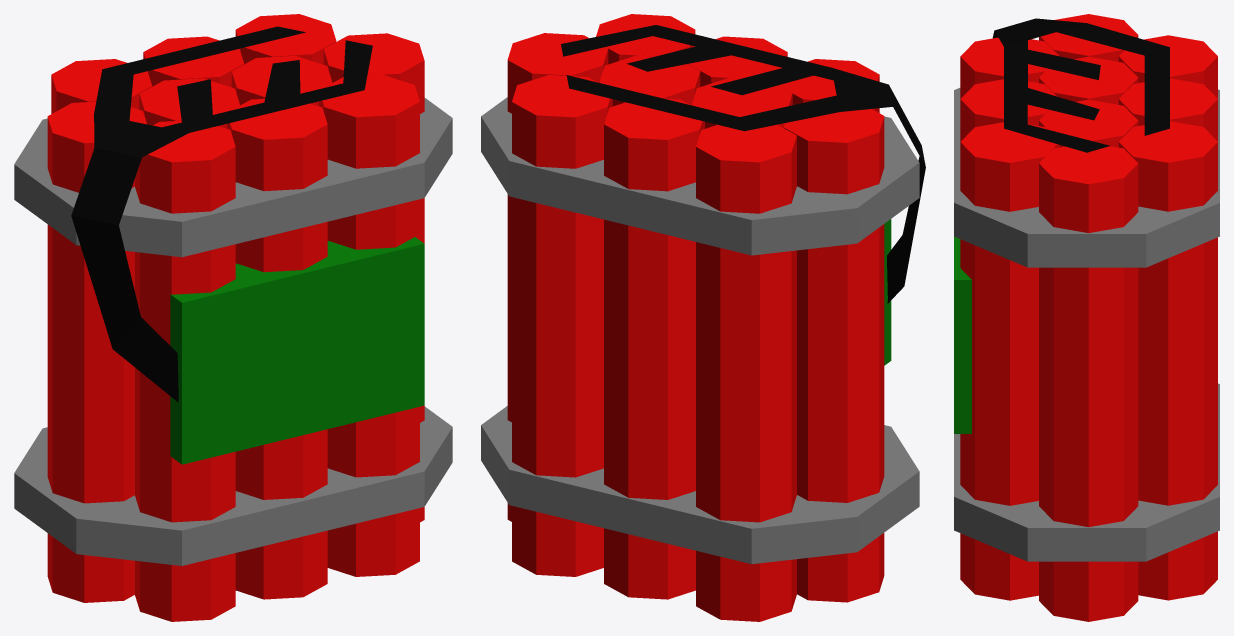
Rendered from dynamite.fbx.
3 renders of one model, left to right at view 1: azimuth 30°, elevation 25°; view 2: azimuth 150°, elevation 25°; view 3: azimuth 270°, elevation 25°, orthographic. The views are drawn at different scales.
Visible parts, largest first — view 1: Cylinder; view 2: Cylinder; view 3: Cylinder.
Boxes of the visible parts, x1,y1,x2,y2 form: Cylinder: [14, 14, 452, 621]; Cylinder: [481, 14, 925, 621]; Cylinder: [954, 14, 1219, 621].
Bounding box in the file's own units: 164 × 193 × 104.
